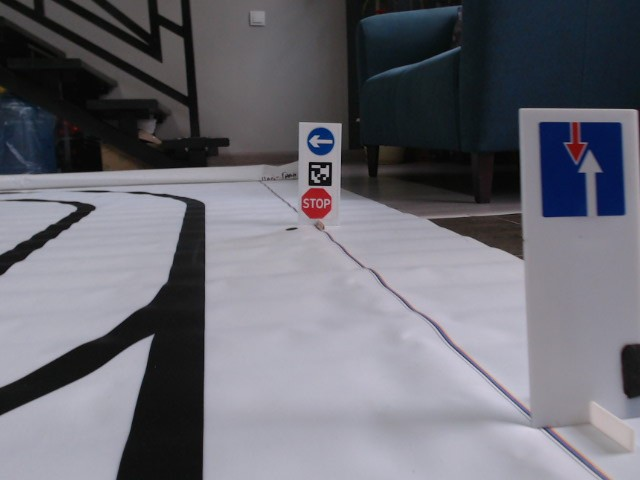Stop: (300, 187, 333, 220)
priority_movement: (538, 122, 627, 217)
